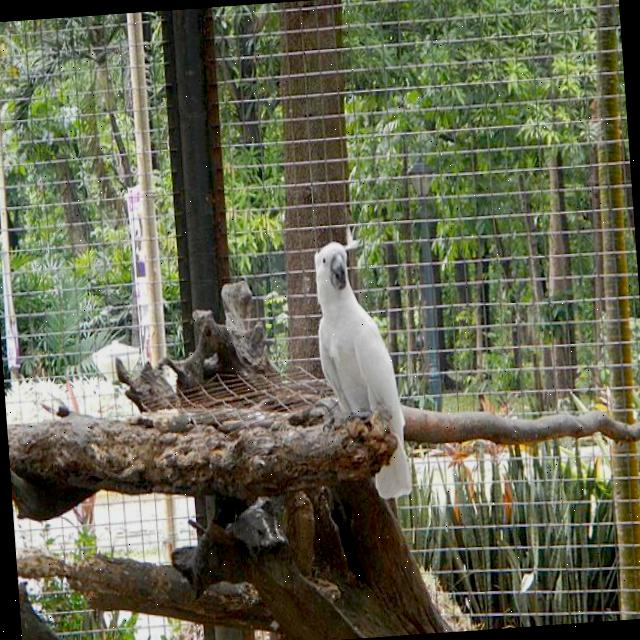Kakatua Putih: (292, 215, 434, 548)
